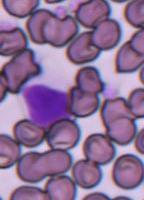L: (23, 82, 68, 129)
